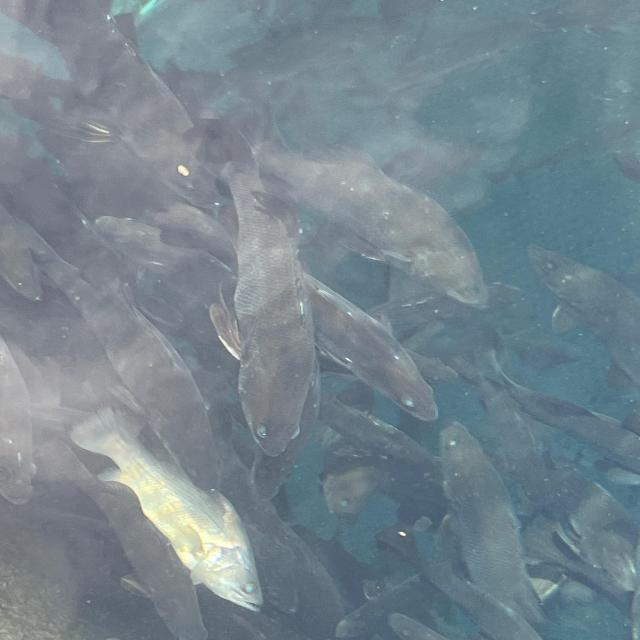ikan: (203, 128, 368, 452), (58, 400, 280, 606), (402, 400, 557, 565)
